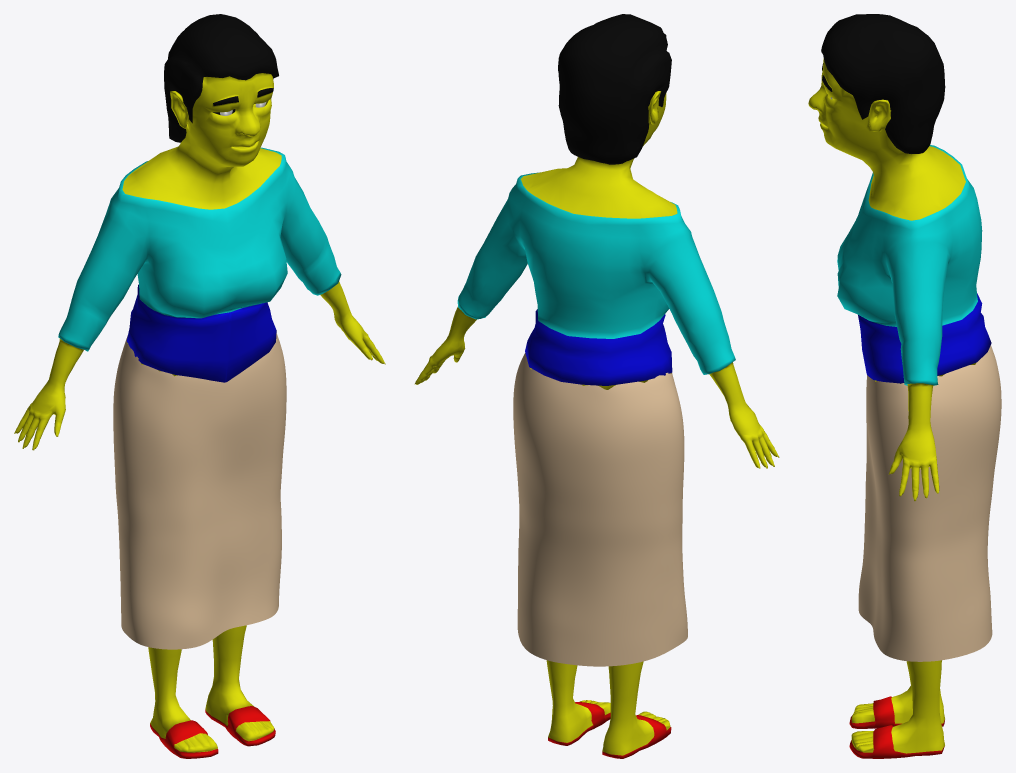
3 views of the same model, side by side, from view 1: azimuth 30°, elevation 25°; view 2: azimuth 150°, elevation 25°; view 3: azimuth 270°, elevation 25° (orthographic).
Visible parts, largest first — view 1: lowpoly, jupe.hp; view 2: lowpoly, jupe.hp; view 3: lowpoly, jupe.hp.
Boxes of the visible parts, x1,y1,x2,y2 form: lowpoly: [14, 14, 385, 758]; jupe.hp: [113, 333, 286, 649]; lowpoly: [414, 14, 779, 758]; jupe.hp: [513, 353, 687, 666]; lowpoly: [808, 14, 991, 758]; jupe.hp: [858, 345, 1001, 661].
Size of the model in its own units: 91.29 by 175 by 42.7.
